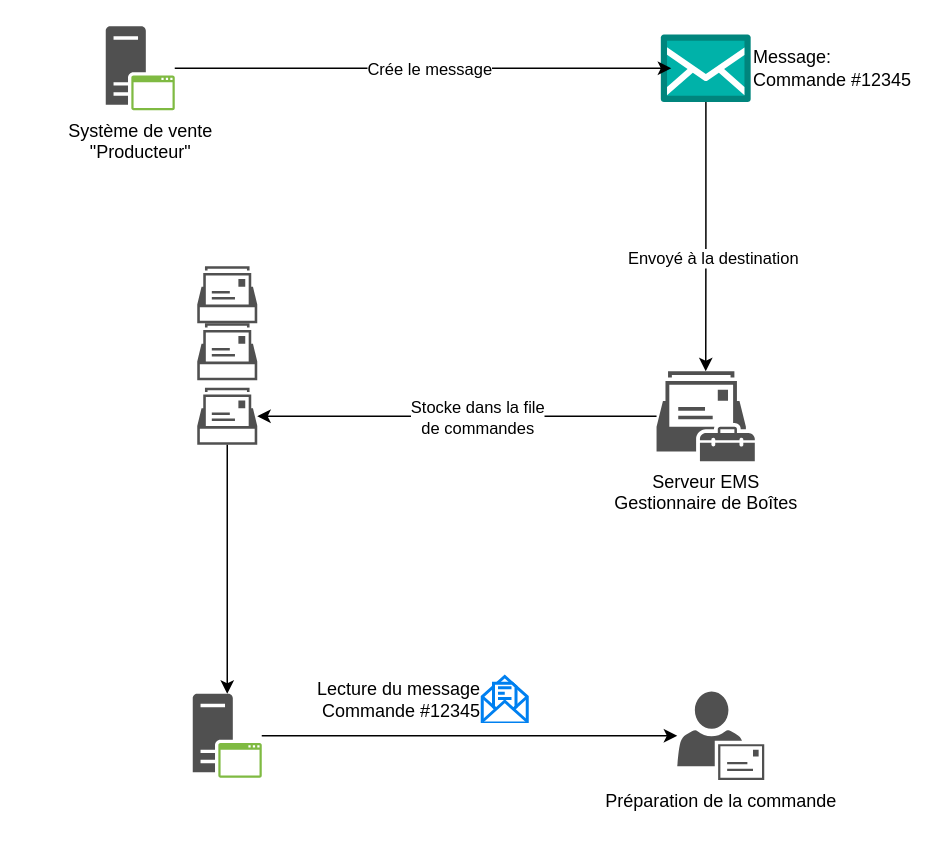
Image size: 936x857. Some labels were removed from this diagram. Here are the shapes that lost their labels. From the top down, the centre of each, then its label:
(226,415): Commandes à traiter
(226,735): Système de Logistique "Consommateur"
